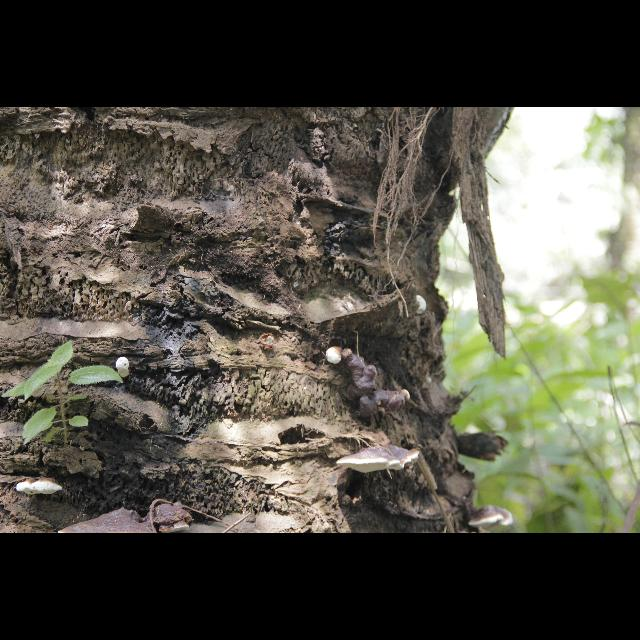ganoderma: (344, 350, 402, 425), (337, 445, 421, 476), (58, 510, 158, 535), (150, 502, 197, 534), (469, 507, 515, 531), (17, 479, 64, 497)
primordium: (117, 359, 134, 380), (327, 347, 344, 365), (417, 296, 428, 316), (403, 390, 411, 403)
